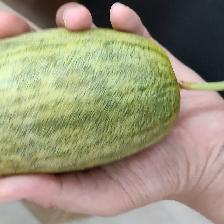gua: (22, 48, 184, 148)
